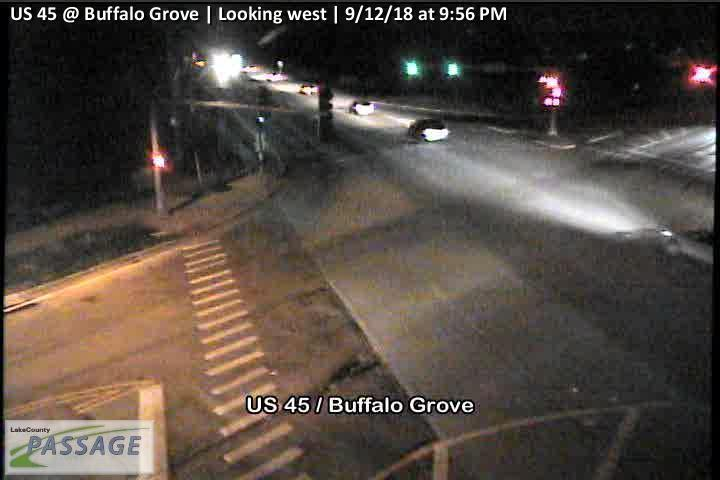SUV: (409, 116, 448, 143), (347, 99, 376, 116)
